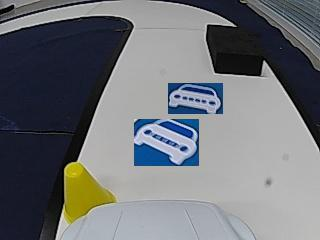block: (206, 24, 264, 75)
cone: (61, 163, 116, 203)
